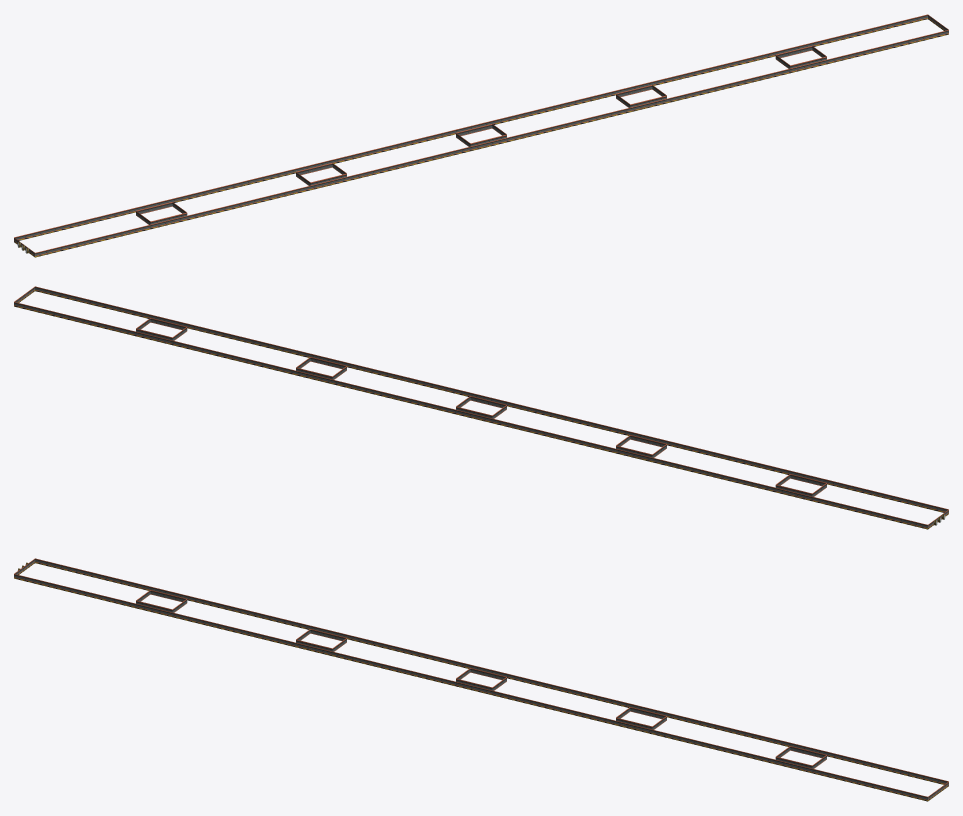
3 views of the same model, one above another, from view 1: azimuth 30°, elevation 25°; view 2: azimuth 150°, elevation 25°; view 3: azimuth 330°, elevation 25° (orthographic).
Parts seen in each view (by area): view 1: Object_2; view 2: Object_2; view 3: Object_2.
Boxes of the visible parts, x1=… form: Object_2: x1=14, y1=14, x2=948, y2=257; Object_2: x1=14, y1=286, x2=948, y2=529; Object_2: x1=14, y1=558, x2=948, y2=801.
Bounding box in the file's own units: 4010 × 20.39 × 160.
